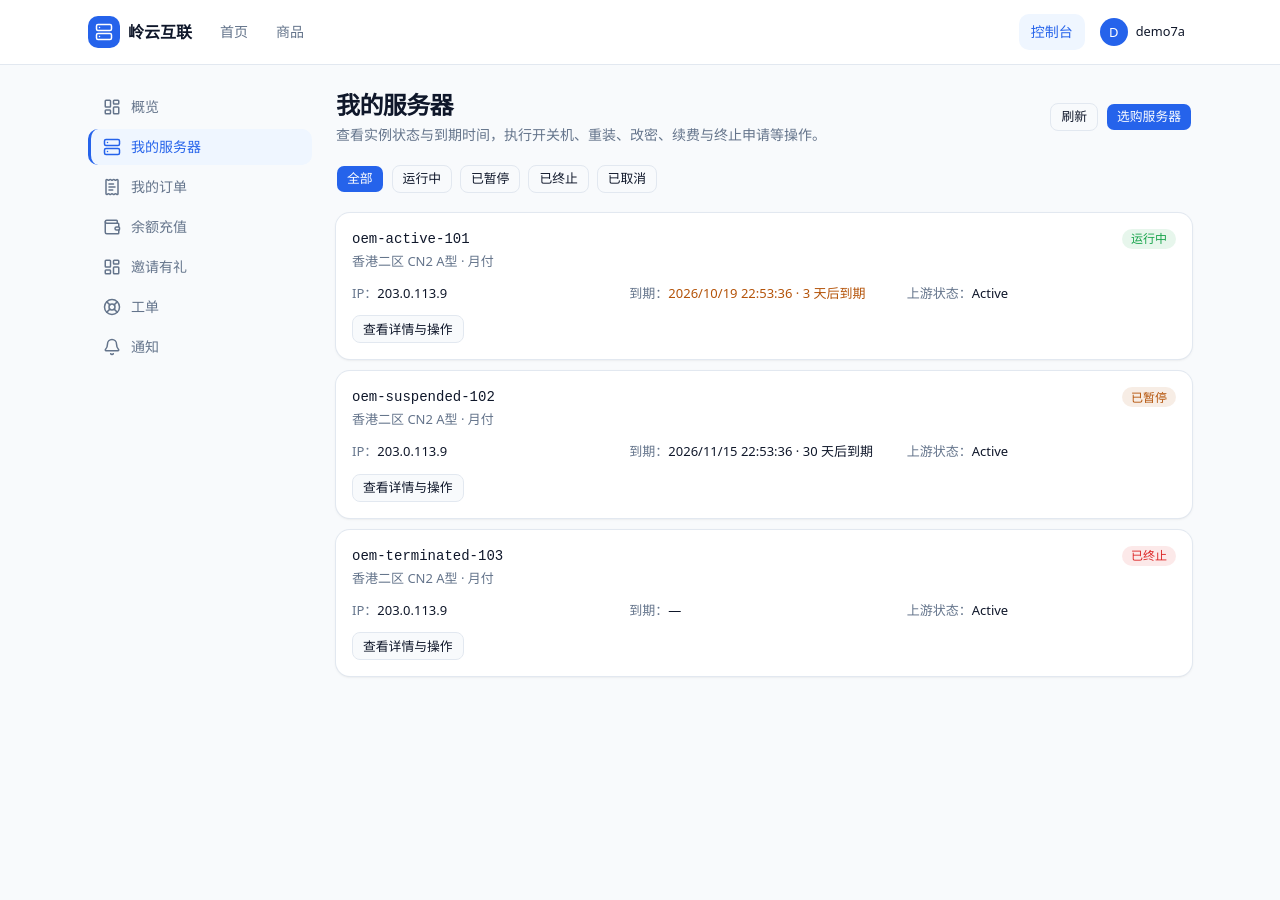
Test: 会员区 · 我的服务器列表 › 点击状态筛选后按 status 重新请求并只展示对应实例
Expected: the heading "我的服务器" is shown, [336,88,453,121]
Expected: the text "oem-active-101" is shown, [352,231,470,247]
Click the button "已暂停": (490, 179) [460,165,520,193]
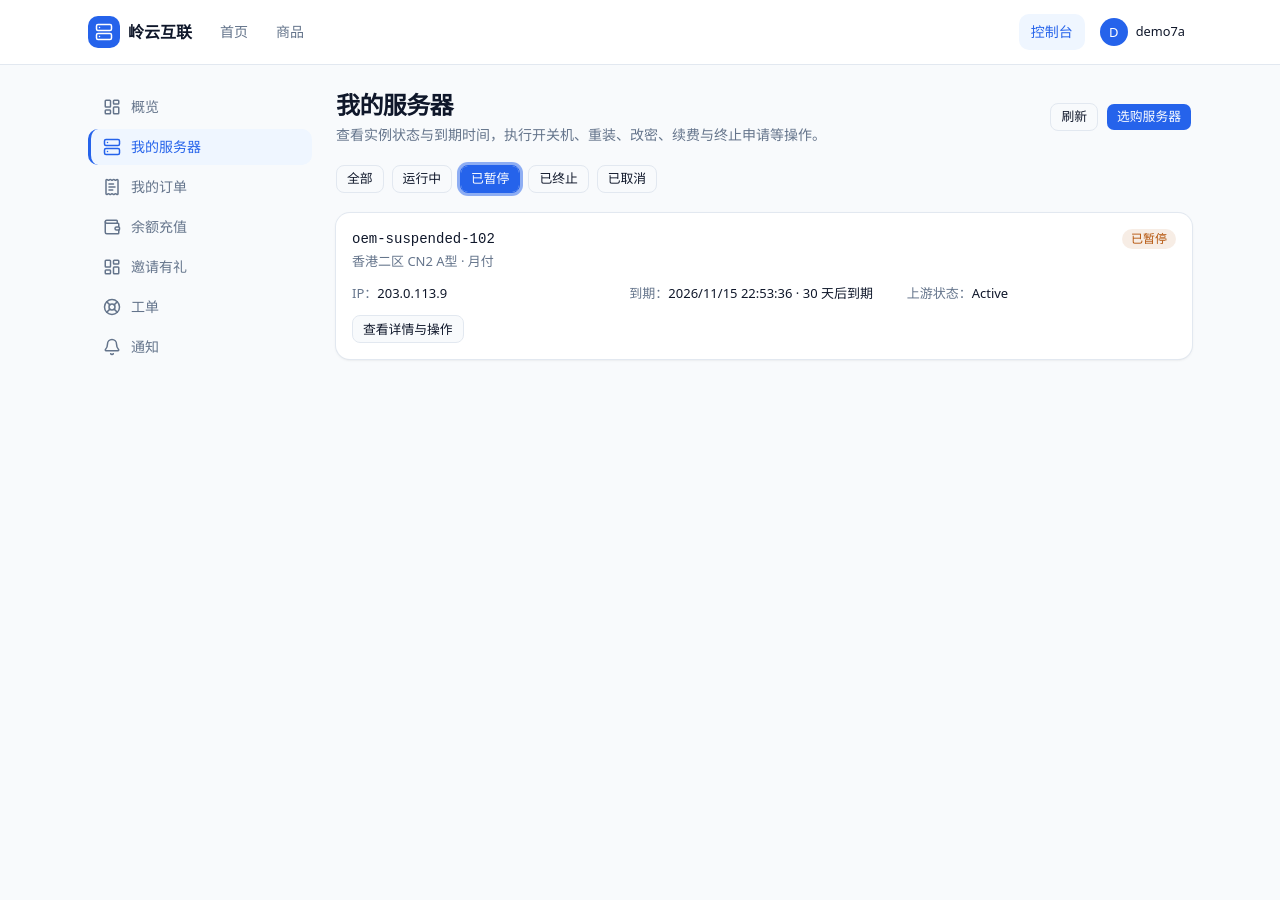
Expected: the text "oem-suspended-102" is shown, [352,229,495,249]
Result: the button "oem-active-101" is gone
